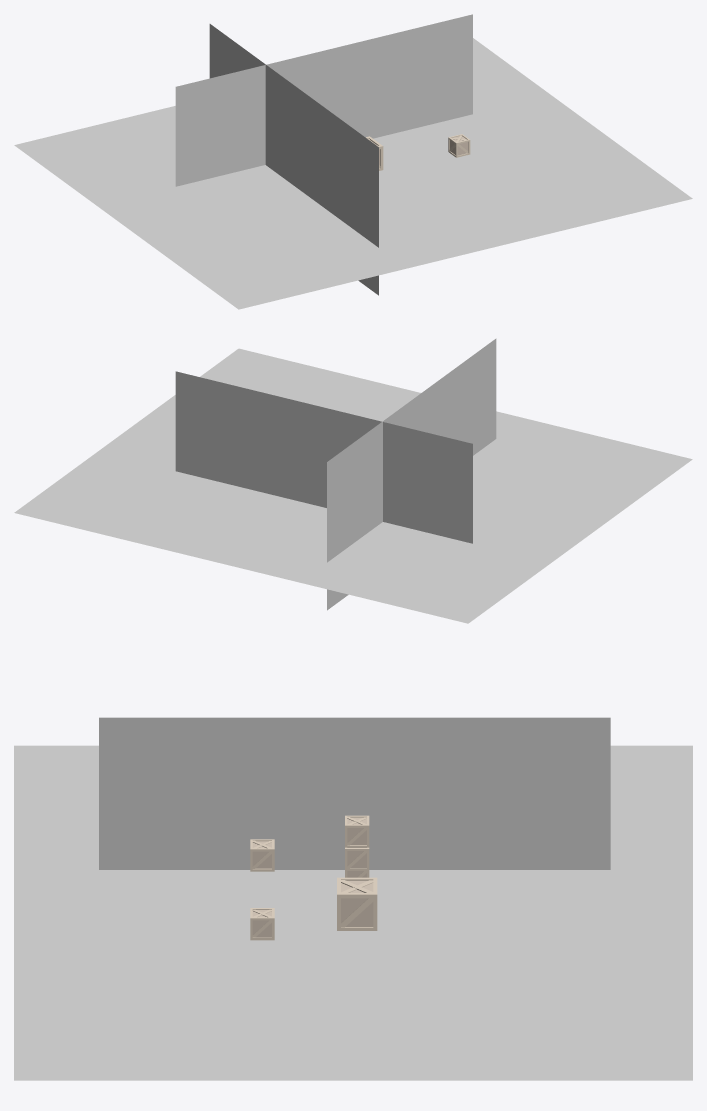
Rendered from scene_debug.glb.
3 renders of one model, top to bottom at view 1: azimuth 30°, elevation 25°; view 2: azimuth 150°, elevation 25°; view 3: azimuth 270°, elevation 25°, orthographic. The views are drawn at different scales.
Visible parts, largest first — view 1: Plane, Plane.004, Plane.003; view 2: Plane, Plane.004, Plane.003; view 3: Plane, Plane.003, object1.003, object1.004, object1.005, object1.002.
Boxes of the visible parts, box(x1,y1,x2,y2) form: Plane: box(14, 38, 692, 309); Plane.004: box(175, 14, 472, 186); Plane.003: box(209, 24, 378, 295); Plane: box(14, 348, 692, 623); Plane.004: box(175, 371, 472, 543); Plane.003: box(327, 338, 496, 610); Plane: box(14, 745, 692, 1080); Plane.003: box(99, 717, 610, 869); object1.003: box(337, 877, 377, 930); object1.004: box(250, 839, 274, 871); object1.005: box(250, 908, 274, 940); object1.002: box(345, 815, 369, 847).
Bounding box in the file's own units: 77.22 × 24.28 × 66.15.
